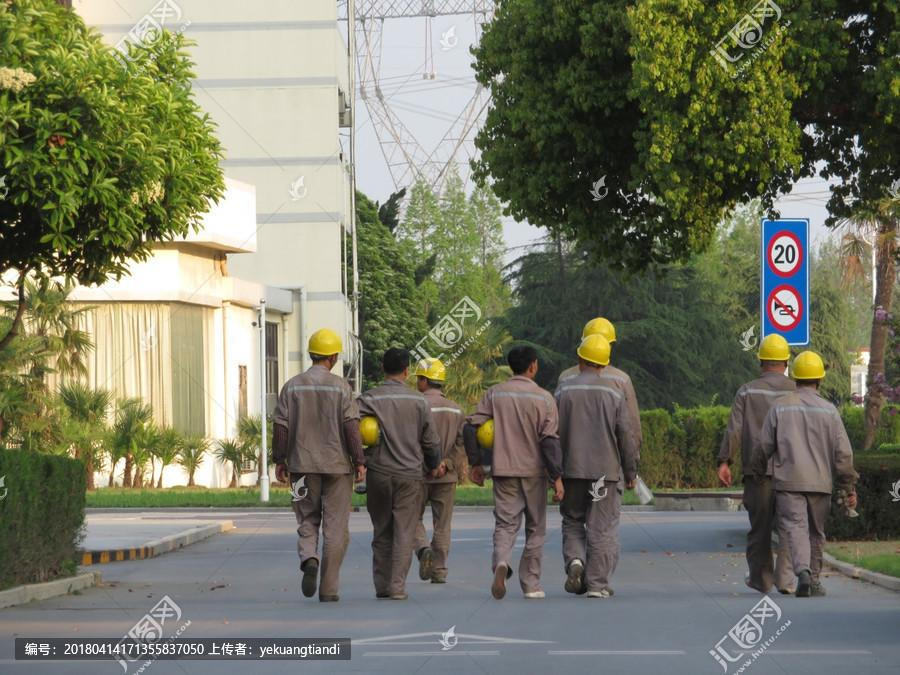helmet: (788, 351, 829, 381), (577, 335, 613, 369), (756, 335, 792, 365), (307, 329, 344, 357), (413, 357, 449, 384), (583, 317, 619, 343), (359, 417, 382, 447), (478, 418, 496, 451)
